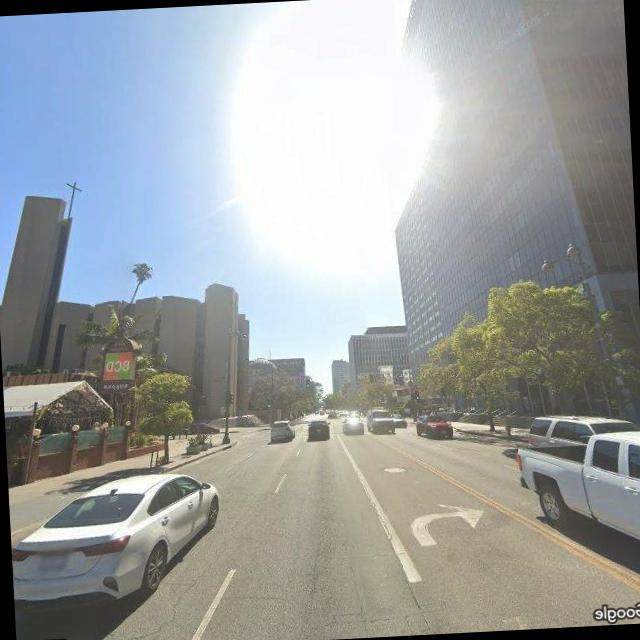crack: (102, 527, 240, 640)
